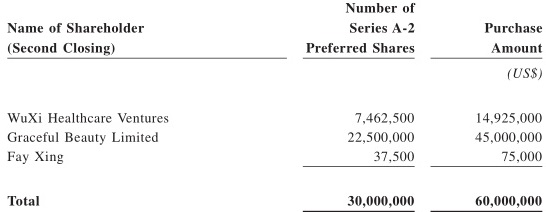column: (6, 2, 169, 212), (306, 1, 416, 212), (476, 1, 543, 212)
row: (1, 111, 546, 126), (1, 42, 546, 55), (1, 67, 546, 80), (1, 132, 546, 145), (1, 195, 546, 207), (1, 23, 546, 34), (1, 151, 546, 162), (2, 3, 546, 12)
